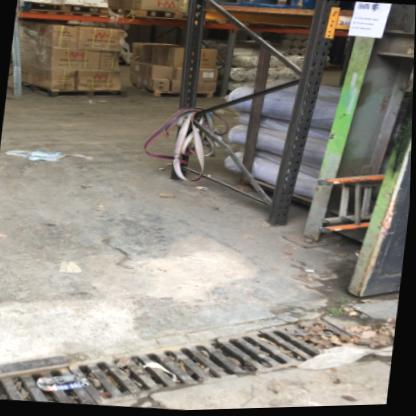vertical_damage: (12, 55, 31, 77)
